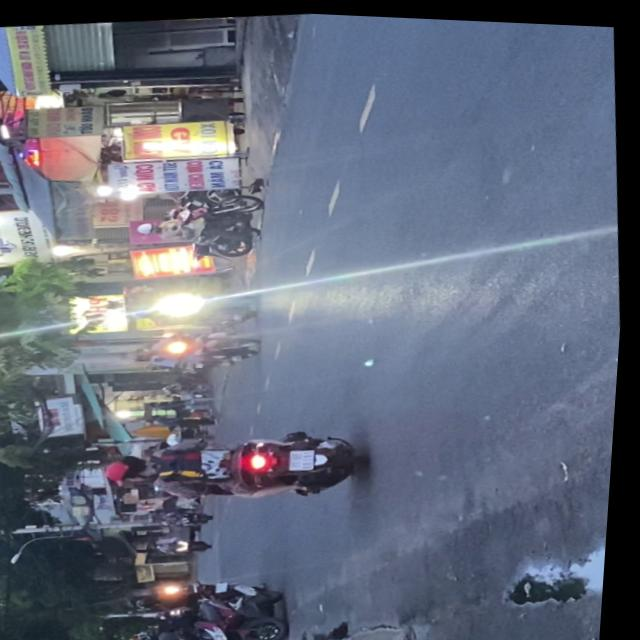helmet: (108, 450, 158, 482)
licenseplate: (101, 414, 377, 514)
nohelmet: (292, 445, 320, 467)
